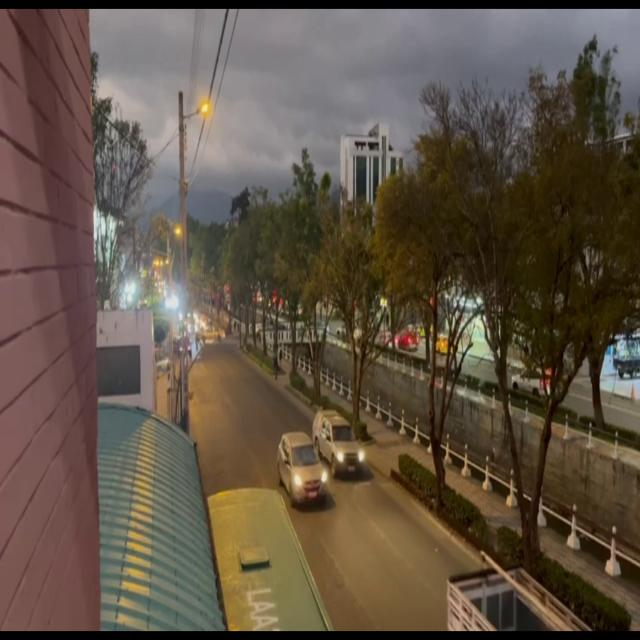CMT: (318, 409, 365, 474)
SUV: (280, 433, 318, 504)
